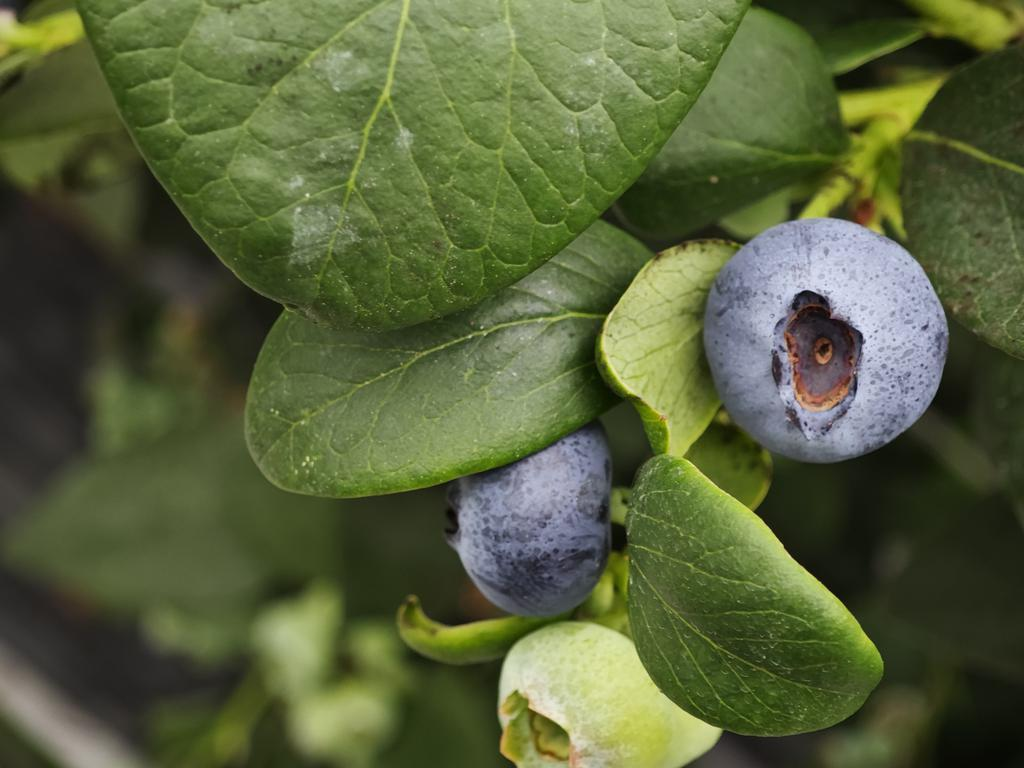RipeBlueBerry: (700, 214, 950, 470), (440, 427, 618, 623)
